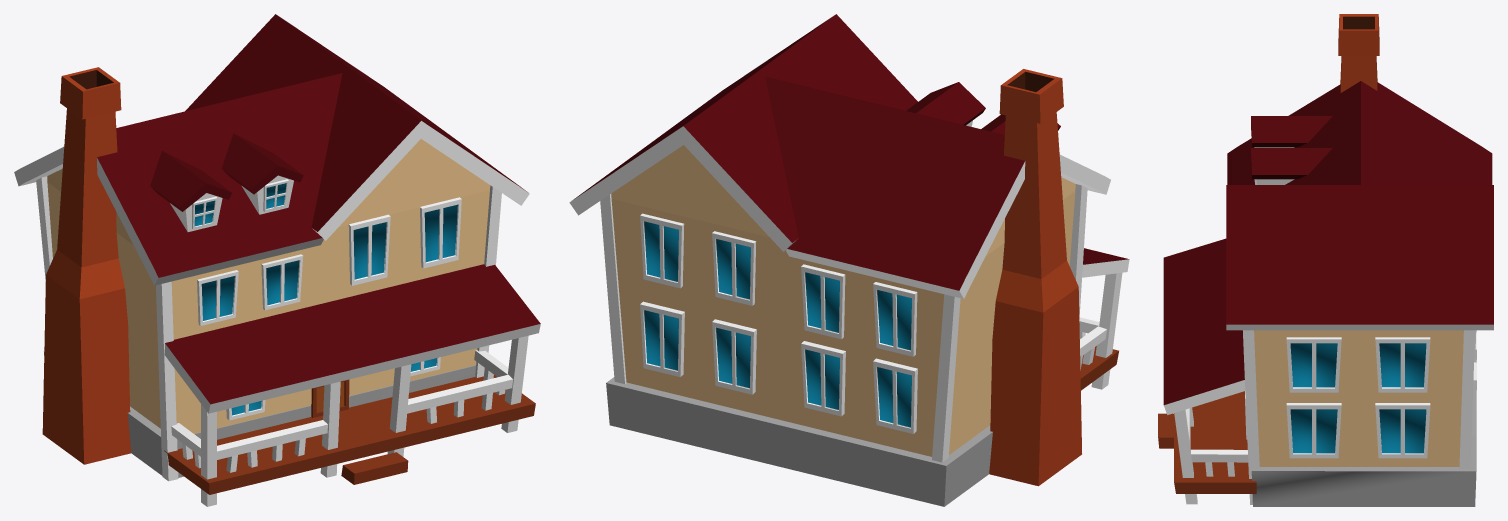
The model's file is Big_House_4.fbx.
3 renders of one model, left to right at view 1: azimuth 30°, elevation 25°; view 2: azimuth 150°, elevation 25°; view 3: azimuth 270°, elevation 25°, orthographic. The views are drawn at different scales.
Visible parts, largest first — view 1: Big_House_Roof, Big_House_Poarch_Roof, Big_House_Walls, Big_House_Chimney, Big_House_Columns, Big_House_Poarch, Barn_Big_Window_Front, Big_House_High_Windows, Big_House_Base, Big_House_Door; view 2: Big_House_Roof, Big_House_Walls, Big_House_Chimney, Barn_Big_Window_Back, Big_House_Base, Big_House_Columns, Big_House_High_Windows, Big_House_Poarch_Roof, Big_House_Poarch; view 3: Big_House_Roof, Big_House_Walls, Barn_Big_Window_Side, Big_House_Poarch_Roof, Big_House_Base, Big_House_Poarch, Big_House_Columns, Big_House_High_Windows, Big_House_Chimney, Barn_Big_Window_Back.
Part boxes in pixels (x1,y1,x2,y2): Big_House_Roof: (14, 14, 529, 285); Big_House_Poarch_Roof: (164, 264, 540, 413); Big_House_Walls: (47, 139, 490, 433); Big_House_Chimney: (42, 67, 130, 464); Big_House_Columns: (36, 176, 528, 506); Big_House_Poarch: (164, 375, 535, 494); Barn_Big_Window_Front: (197, 197, 461, 420); Big_House_High_Windows: (150, 133, 303, 231); Big_House_Base: (44, 352, 475, 477); Big_House_Door: (311, 379, 349, 417); Big_House_Roof: (569, 14, 1110, 298); Big_House_Walls: (611, 145, 1075, 456); Big_House_Chimney: (989, 69, 1081, 486); Barn_Big_Window_Back: (640, 213, 917, 433); Big_House_Base: (606, 377, 992, 506); Big_House_Columns: (600, 184, 1122, 462); Big_House_High_Windows: (906, 82, 1060, 134); Big_House_Poarch_Roof: (1082, 248, 1129, 277); Big_House_Poarch: (1080, 346, 1118, 390); Big_House_Roof: (1226, 81, 1493, 330); Big_House_Walls: (1254, 330, 1463, 466); Barn_Big_Window_Side: (1286, 337, 1430, 458); Big_House_Poarch_Roof: (1163, 238, 1245, 414); Big_House_Base: (1251, 401, 1476, 506); Big_House_Poarch: (1158, 391, 1256, 493); Big_House_Columns: (1174, 330, 1474, 504); Big_House_High_Windows: (1251, 116, 1332, 184); Big_House_Chimney: (1338, 14, 1379, 92); Barn_Big_Window_Back: (1471, 330, 1476, 435).
Size of the model in its own units: 453 by 398 by 364.
